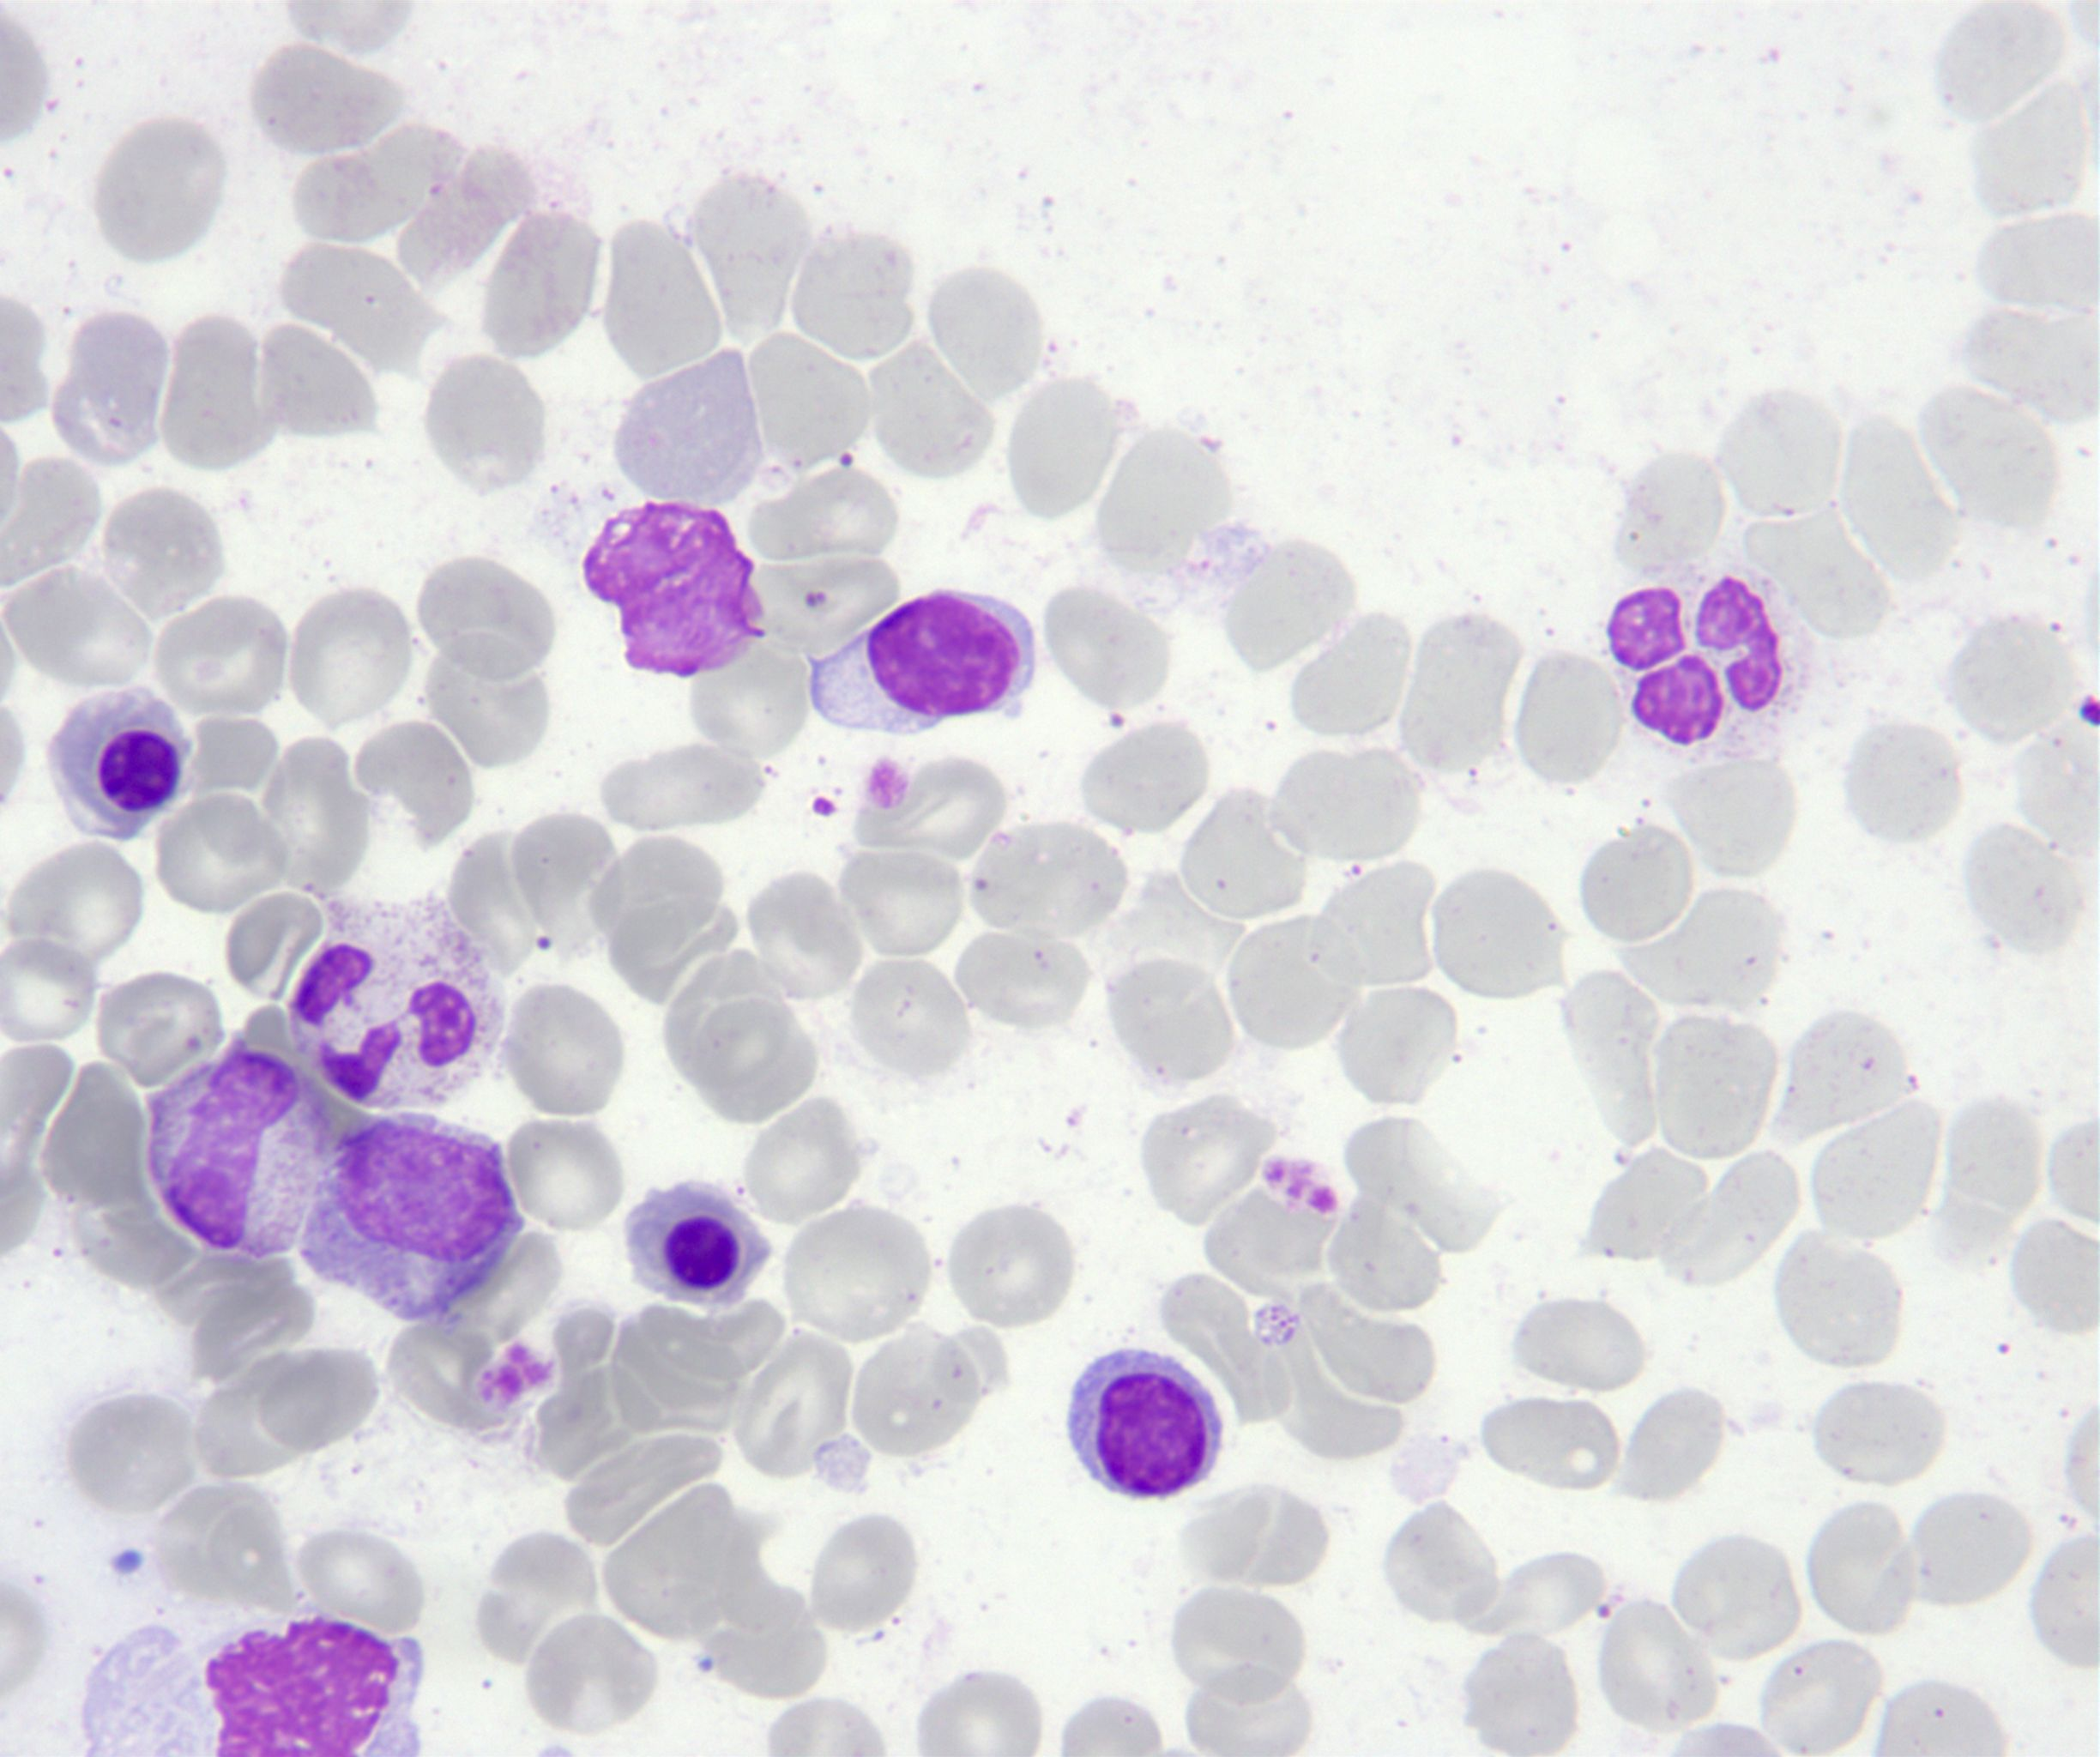24: (45, 687, 194, 839), (621, 1183, 774, 1309)
3: (303, 1122, 523, 1321)
32: (809, 590, 1034, 733), (1069, 1350, 1223, 1499)
4: (141, 1038, 331, 1260)
6: (288, 881, 502, 1111), (1605, 569, 1807, 764)
x: (82, 1616, 424, 1757), (584, 504, 764, 679)
